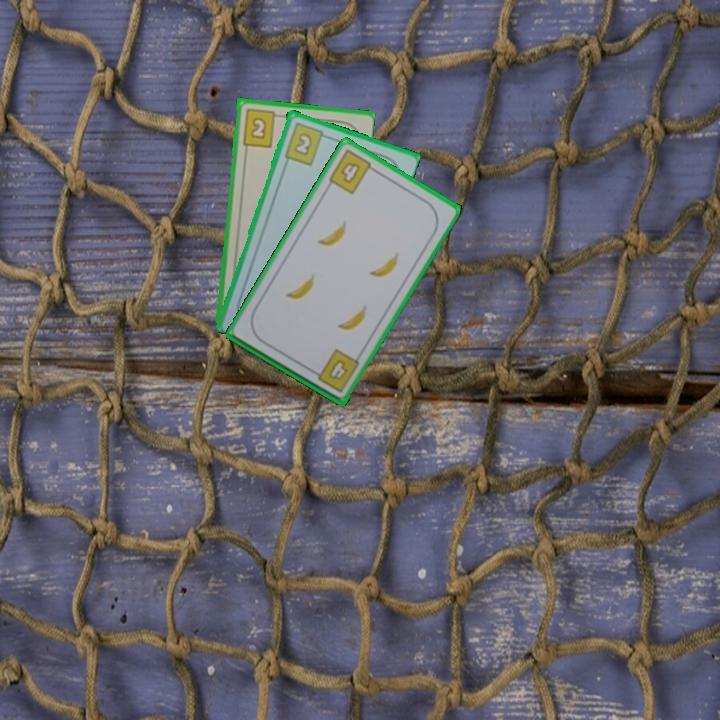2b: (280, 119, 331, 168), (239, 105, 284, 150)
4b: (325, 146, 380, 197), (308, 345, 362, 395)
